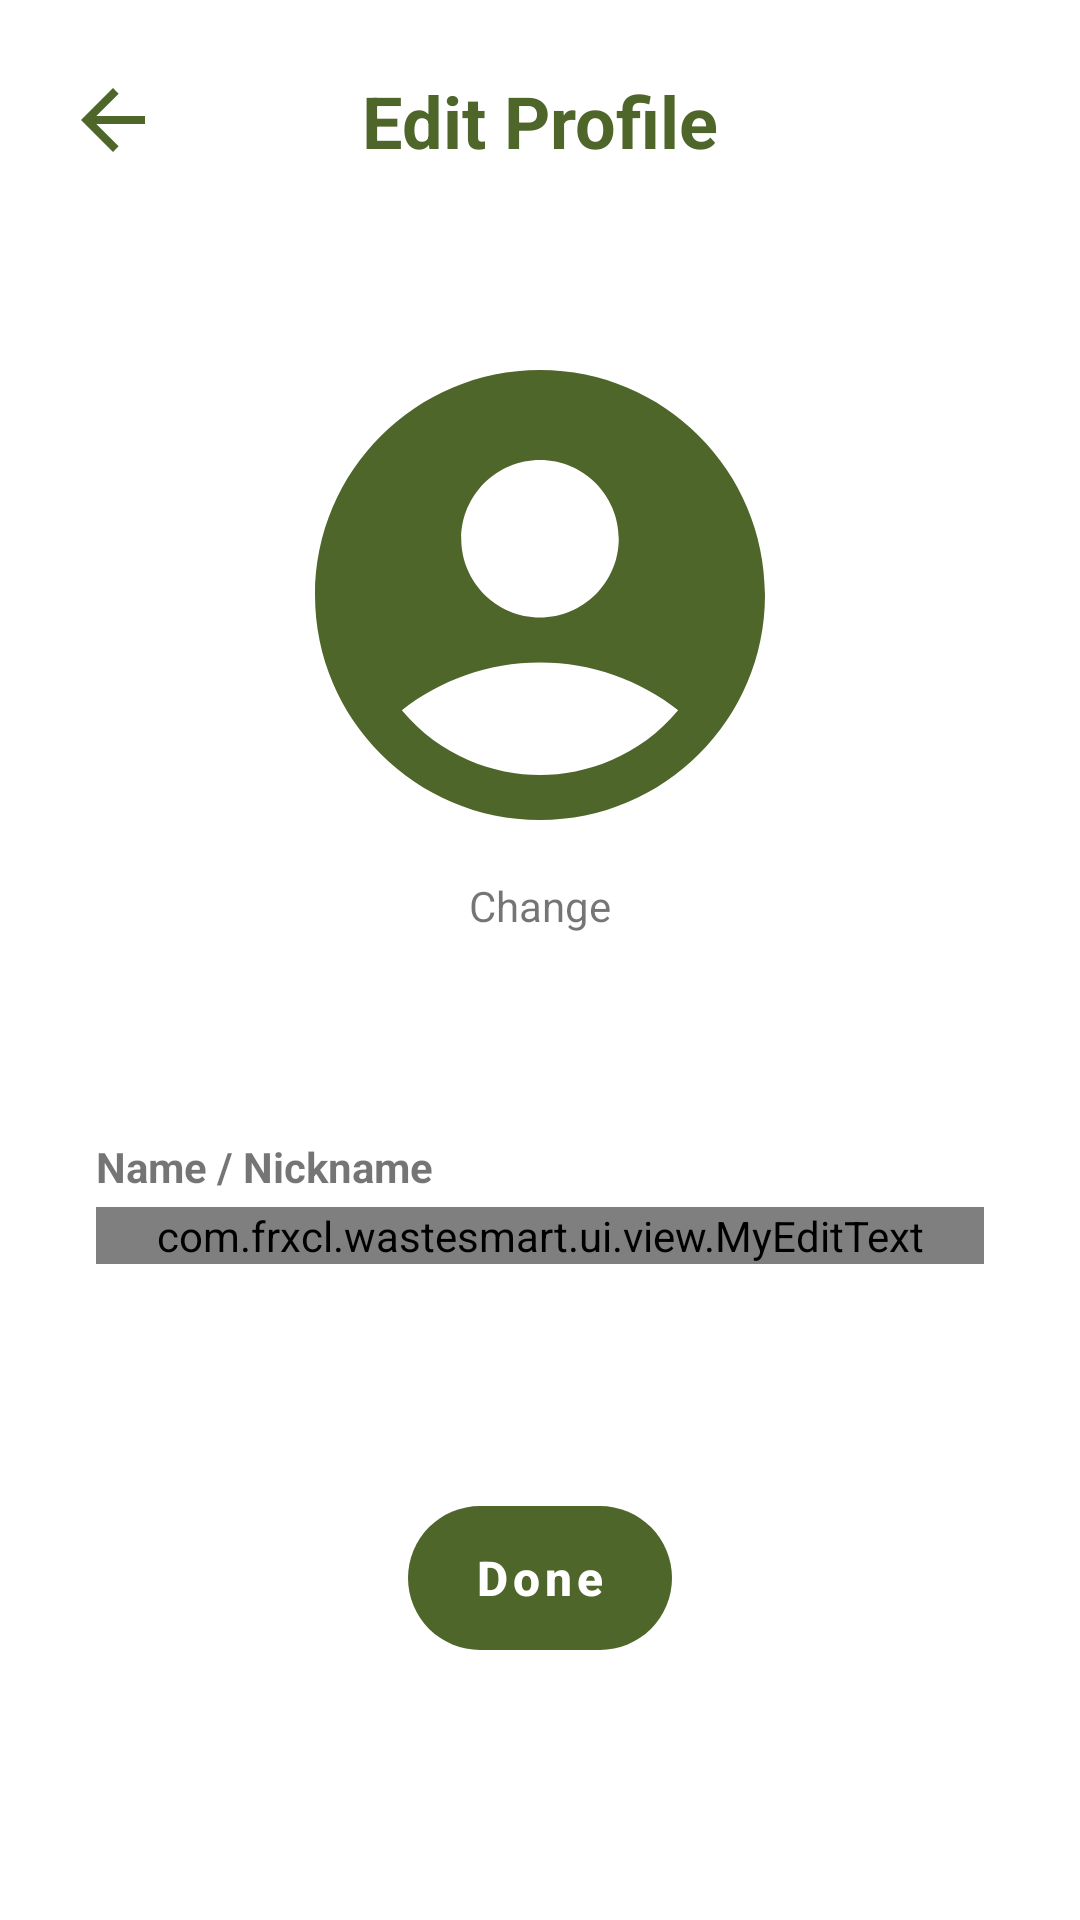

Locate icon controls on the screen. Image size 1080×1920, boxes as (x1,y1,x2,y2).
arrow back: (81,88,145,152)
